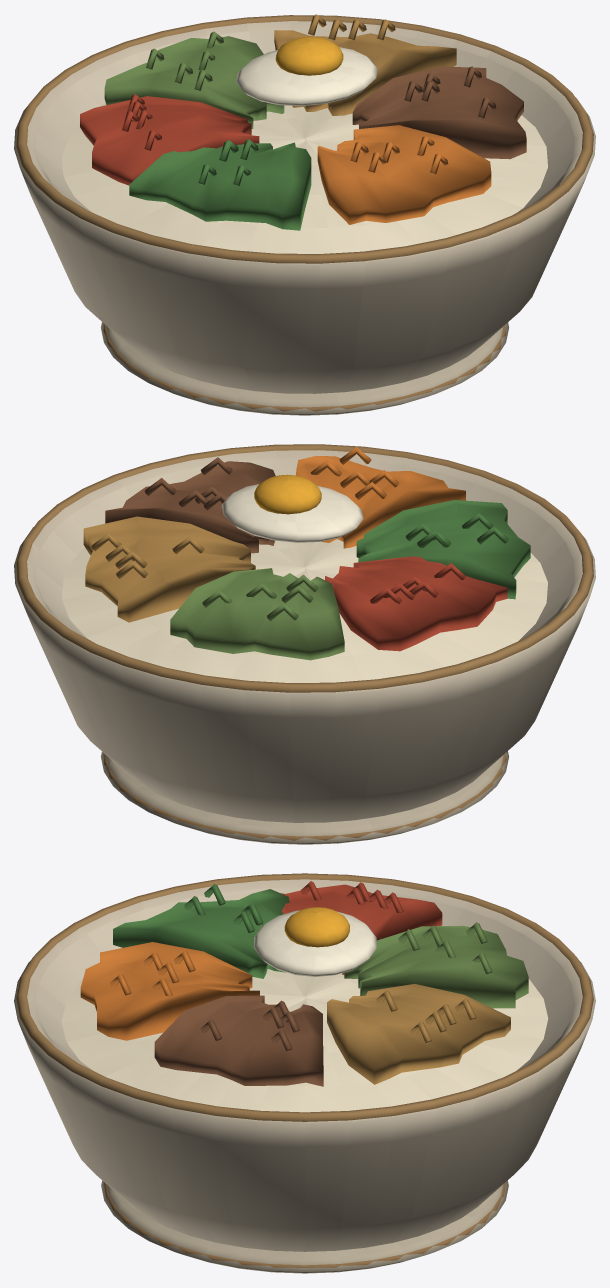
File: bibimbap.glb
3 renders of one model, top to bottom at view 1: azimuth 30°, elevation 25°; view 2: azimuth 150°, elevation 25°; view 3: azimuth 270°, elevation 25°, orthographic.
Parts seen in each view (by area): view 1: Shared_ivory_bowl, Warm_white_rice_base, Thin_antique_brass_rim, Overlapping_Carrot_sector, Overlapping_Spinach_sector, Cream_inner_bowl, Overlapping_Beef_sector, Overlapping_Gochujang_sector, Short_stable_pedestal, Overlapping_Namul_sector, Sunny_egg_white, Overlapping_Mushroom_sector (+2 smaller); view 2: Shared_ivory_bowl, Warm_white_rice_base, Thin_antique_brass_rim, Overlapping_Namul_sector, Overlapping_Mushroom_sector, Overlapping_Gochujang_sector, Cream_inner_bowl, Overlapping_Spinach_sector, Short_stable_pedestal, Overlapping_Beef_sector, Overlapping_Carrot_sector, Sunny_egg_white (+2 smaller); view 3: Shared_ivory_bowl, Warm_white_rice_base, Thin_antique_brass_rim, Overlapping_Beef_sector, Overlapping_Mushroom_sector, Cream_inner_bowl, Overlapping_Carrot_sector, Overlapping_Namul_sector, Short_stable_pedestal, Overlapping_Spinach_sector, Sunny_egg_white, Overlapping_Gochujang_sector (+2 smaller).
Boxes of the visible parts, x1,y1,x2,y2 form: Shared_ivory_bowl: (14, 21, 595, 393); Warm_white_rice_base: (62, 103, 547, 253); Thin_antique_brass_rim: (16, 15, 593, 263); Overlapping_Carrot_sector: (317, 125, 491, 224); Overlapping_Spinach_sector: (129, 142, 311, 230); Cream_inner_bowl: (35, 28, 574, 214); Overlapping_Beef_sector: (352, 66, 526, 159); Overlapping_Gochujang_sector: (80, 96, 259, 185); Short_stable_pedestal: (101, 322, 508, 415); Overlapping_Namul_sector: (104, 36, 284, 128); Sunny_egg_white: (236, 47, 377, 105); Overlapping_Mushroom_sector: (274, 30, 456, 115); Shared_ivory_bowl: (14, 450, 595, 822); Warm_white_rice_base: (62, 539, 547, 682); Thin_antique_brass_rim: (16, 444, 593, 692); Overlapping_Namul_sector: (170, 568, 344, 660); Overlapping_Mushroom_sector: (83, 516, 255, 622); Overlapping_Gochujang_sector: (325, 556, 507, 651); Cream_inner_bowl: (35, 458, 574, 644); Overlapping_Spinach_sector: (356, 500, 530, 599); Short_stable_pedestal: (101, 751, 508, 844); Overlapping_Beef_sector: (105, 461, 275, 553); Overlapping_Carrot_sector: (296, 456, 465, 548); Sunny_egg_white: (221, 484, 363, 542); Shared_ivory_bowl: (14, 879, 595, 1251); Warm_white_rice_base: (61, 969, 548, 1112); Thin_antique_brass_rim: (16, 873, 593, 1121); Overlapping_Beef_sector: (154, 995, 323, 1086); Overlapping_Mushroom_sector: (327, 984, 510, 1084); Cream_inner_bowl: (35, 887, 574, 1070); Overlapping_Carrot_sector: (80, 942, 259, 1040); Overlapping_Namul_sector: (344, 925, 528, 1008); Short_stable_pedestal: (101, 1180, 508, 1273); Overlapping_Spinach_sector: (113, 889, 289, 978); Sunny_egg_white: (254, 910, 376, 976); Overlapping_Gochujang_sector: (281, 884, 442, 974).
Bounding box in the file's own units: 0.842 × 0.456 × 0.842.
